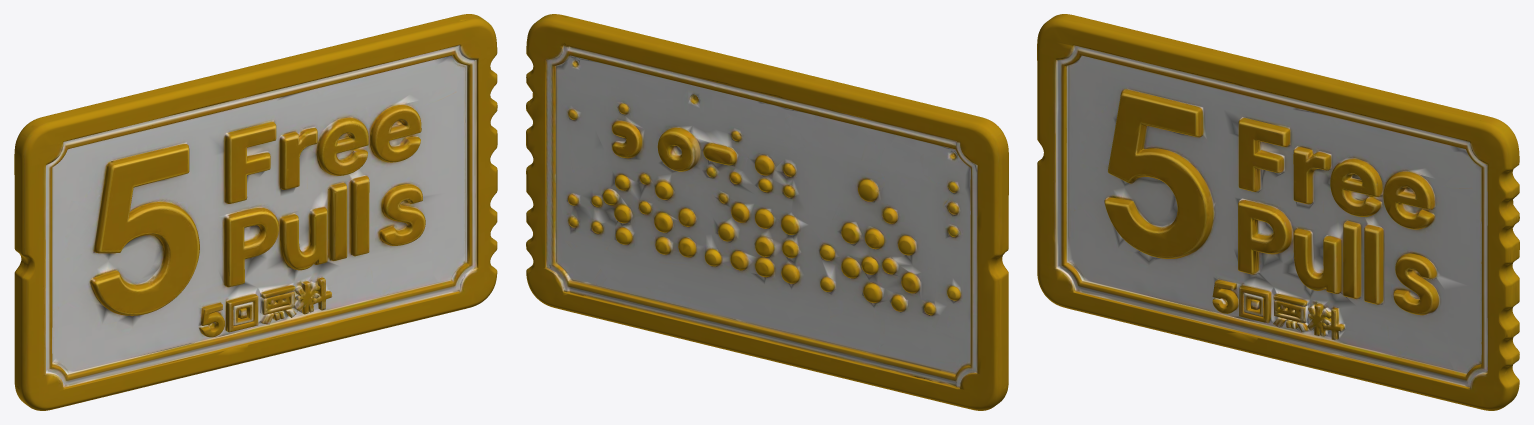
File: 5-free-pulls.glb
The picture shows the model from 3 angles, left to right: view 1: azimuth 30°, elevation 25°; view 2: azimuth 150°, elevation 25°; view 3: azimuth 330°, elevation 25°; orthographic projection.
Parts seen in each view (by area): view 1: node_0; view 2: node_0; view 3: node_0.
Part boxes in pixels (left/top/right/bottom): node_0: left=14, top=14, right=497, bottom=410; node_0: left=526, top=14, right=1008, bottom=410; node_0: left=1037, top=14, right=1519, bottom=410.
Bounding box in the file's own units: 1.08 × 0.6226 × 0.0665.
1 material, 1 textured.
